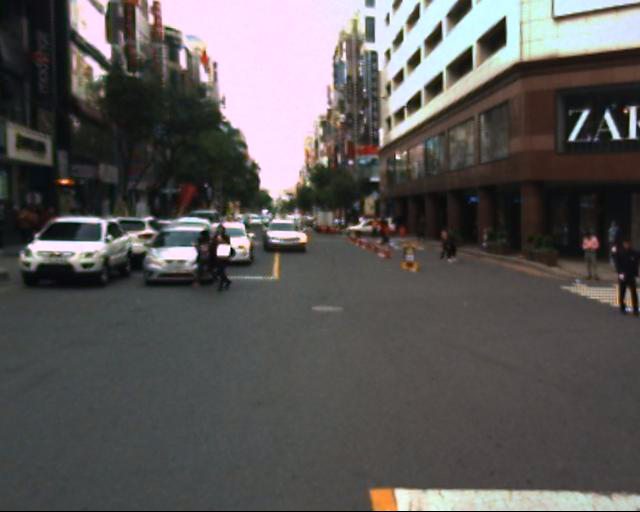person: (607, 234, 640, 322), (205, 218, 241, 296), (186, 223, 225, 291), (16, 193, 57, 253), (439, 218, 469, 276), (576, 230, 605, 289), (436, 221, 461, 274)
